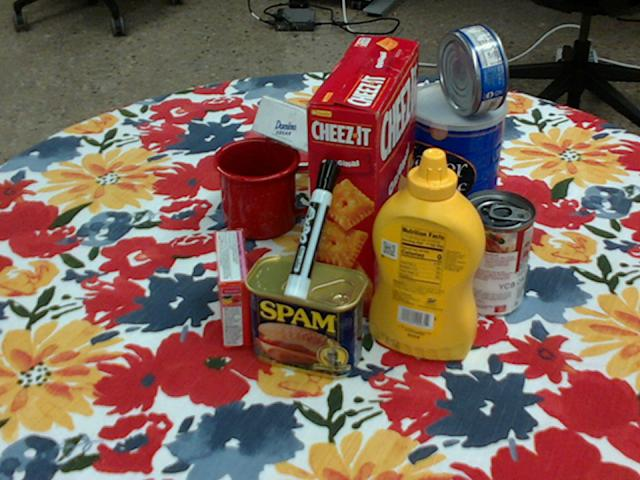cracker_box: (305, 35, 420, 316)
gelatin_box: (216, 228, 250, 346)
large_marker: (285, 157, 339, 299)
master_chef_can: (403, 81, 506, 243)
mug: (214, 137, 326, 240)
mustard_bottle: (369, 147, 486, 361)
potted_meat_can: (245, 254, 368, 378)
sugar_box: (253, 96, 406, 183)
tomato_soup_can: (455, 190, 536, 317)
tuna_fish_can: (436, 23, 508, 115)
